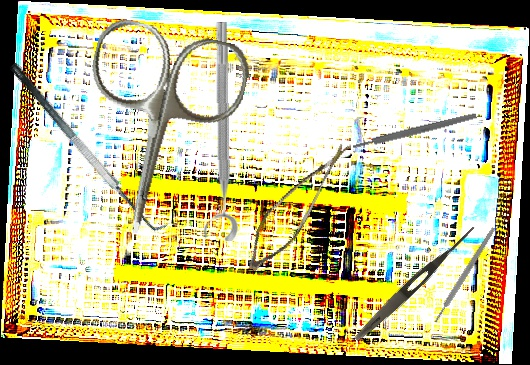Dressing Forceps: (351, 221, 479, 345)
Fixation Ring: (197, 21, 238, 242)
Iris Scissors: (57, 14, 255, 250)
Micro Scissor: (240, 124, 351, 284)
Scalpel Handle: (432, 226, 497, 324), (351, 111, 478, 151)
Spatula Surgical: (7, 50, 171, 242)
